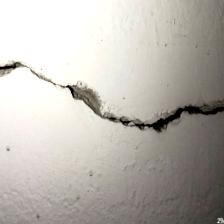High: (1, 54, 223, 142)
